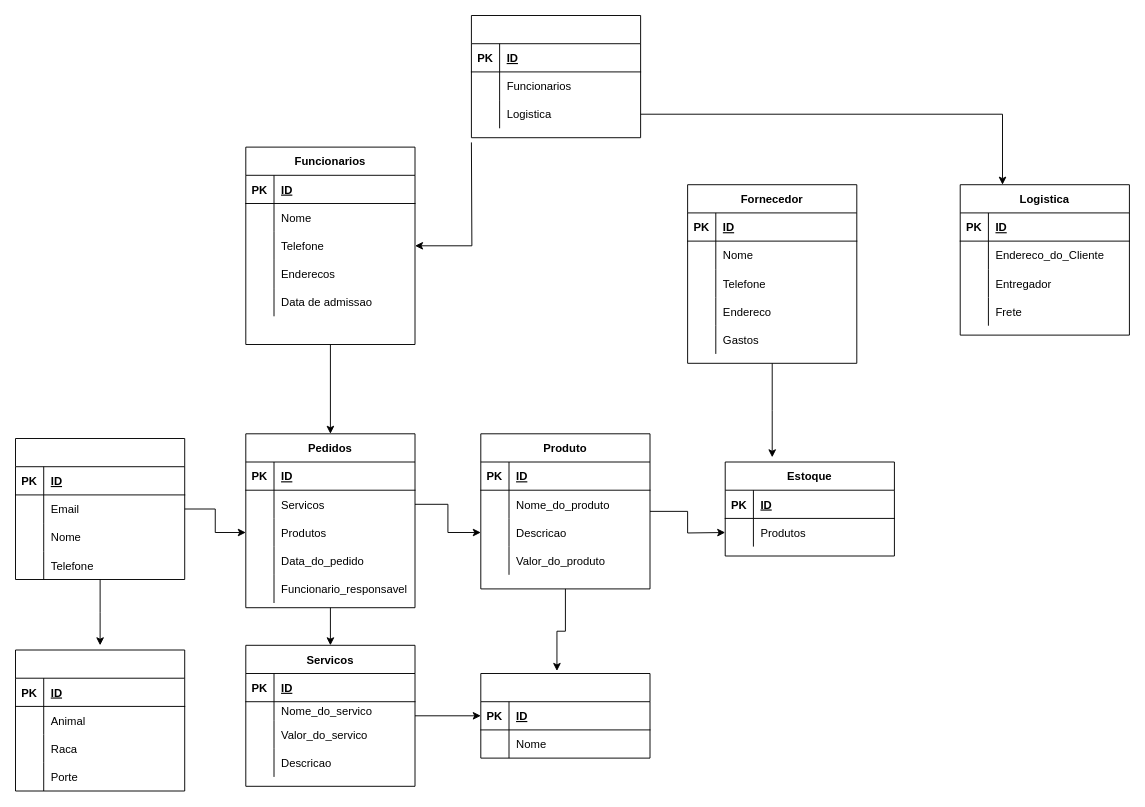
This 1145x807 diagram has some shape labels left out. Each missing label, with the box of its shape:
Cargos: (470, 15, 641, 138)
Cliente: (15, 438, 185, 580)
Forma de pagamento: (480, 673, 650, 758)
Pet: (15, 649, 185, 791)
